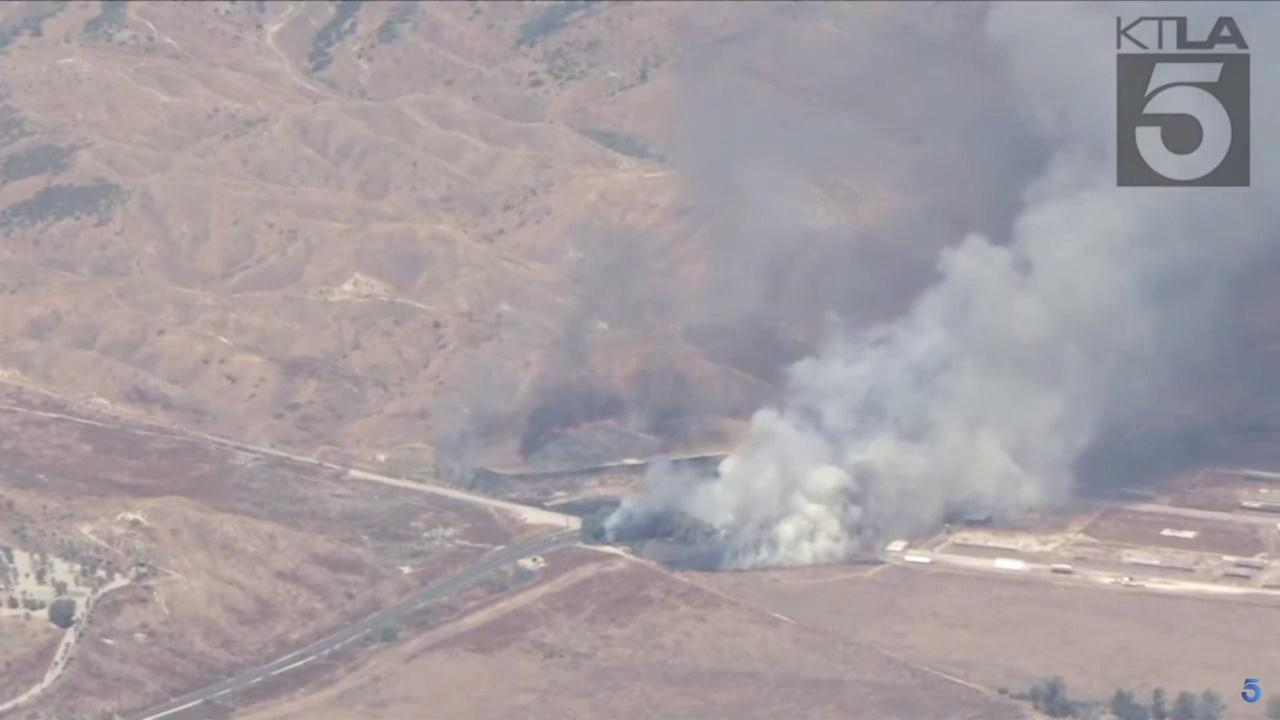smoke: (434, 0, 1280, 572)
